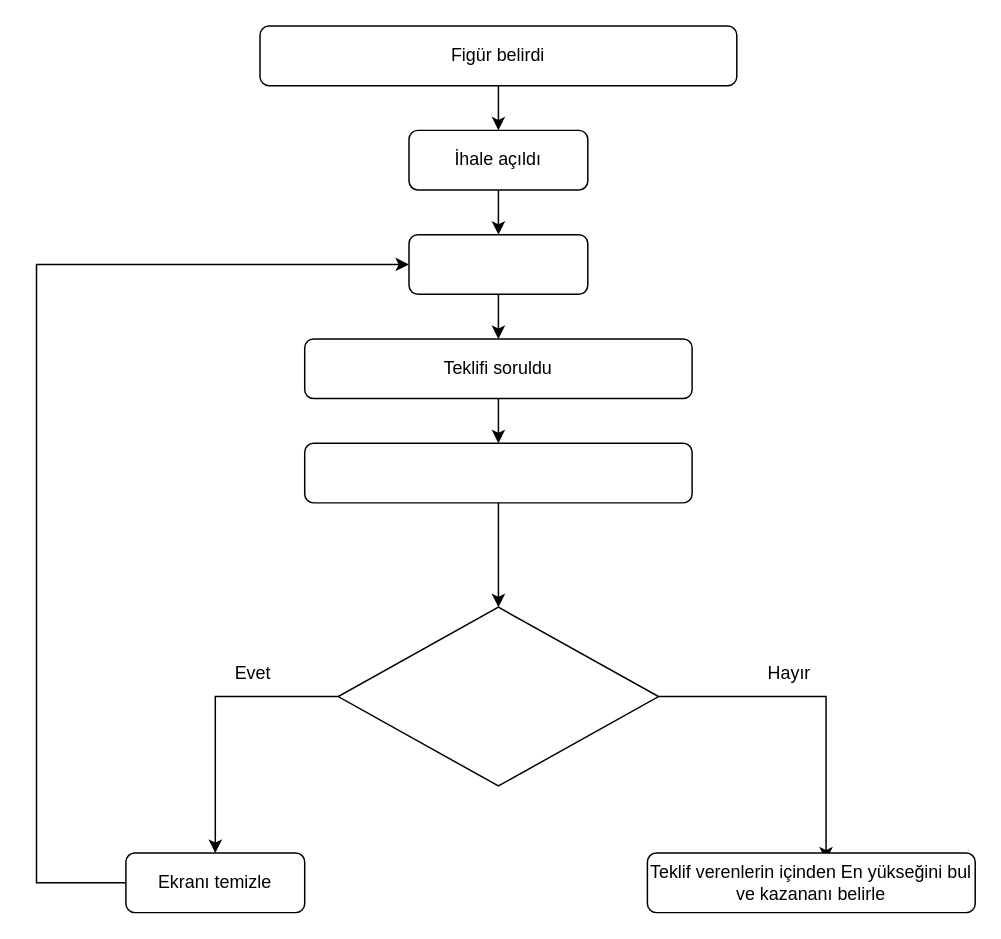
The diagram is 1001 pixels wide and 939 high, and some of its shapes have lost their labels. The shapes that lost their labels are listed below. From the top down, each one's centre as x and y in pixels, then its label:
At pixel 498 263: "İsim soruldu".
At pixel 497 472: "İsim ve teklif sözlüğe eklendi".
At pixel 498 696: "Başka teklif veren biri var mı?".
